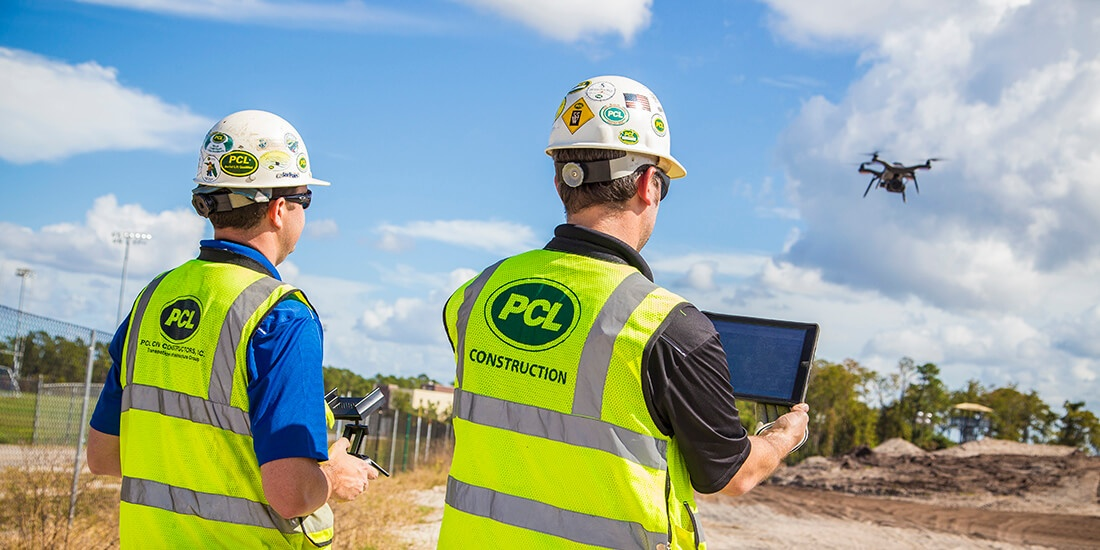white: (545, 75, 672, 239), (191, 111, 315, 256)
